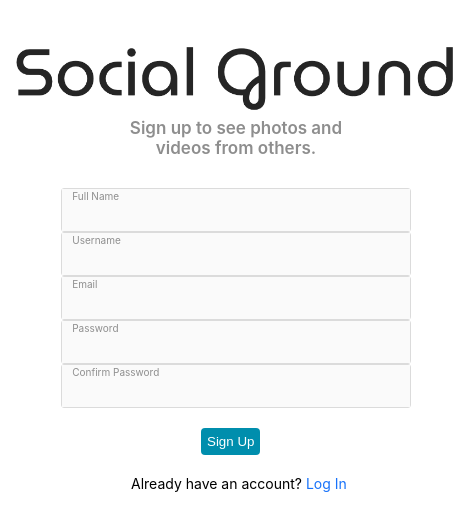
Test: Test that we can create a new user › type in user information, test wrong password match
Type "testUser" into the field with id "formInput12".
click(236, 254); type("testUser")  # box top-left (70, 239), bottom-right (402, 268)
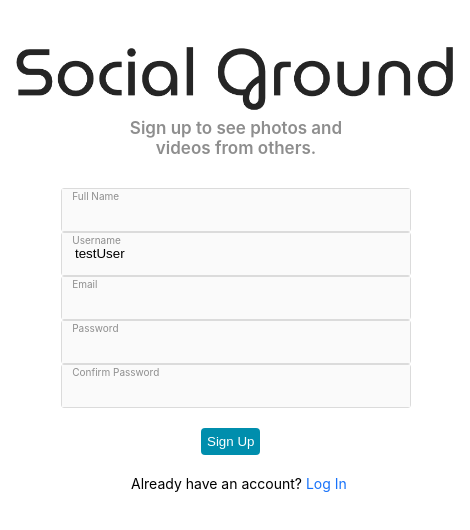
Type "Banana" into the field with id "formInput6".
click(236, 210); type("Banana")  # box top-left (70, 195), bottom-right (402, 224)
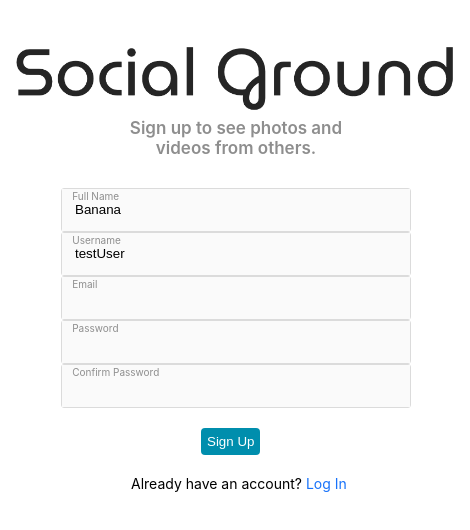
Type "testing123@gmail.com" into the field with id "formInput7".
click(236, 298); type("testing123@gmail.com")  # box top-left (70, 283), bottom-right (402, 312)
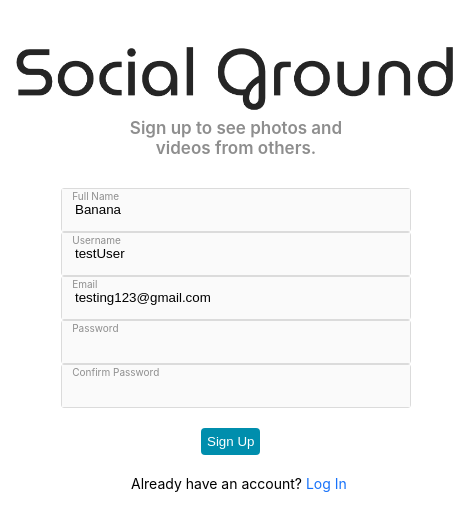
Type "testPW" into the password field with id "formInput8".
click(236, 342); type("testPW")  # box top-left (70, 327), bottom-right (402, 356)
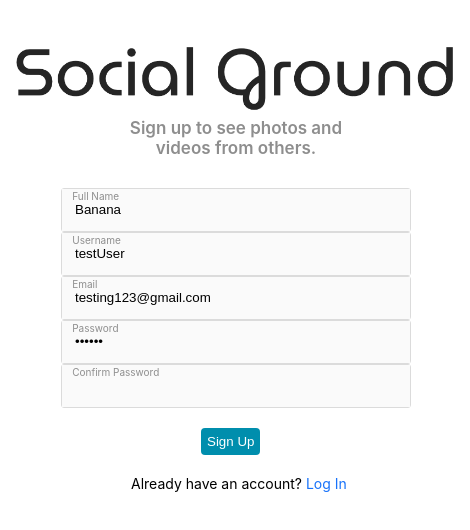
Type "testConfirmPW" into the password field with id "formInput9".
click(236, 386); type("testConfirmPW")  # box top-left (70, 371), bottom-right (402, 400)
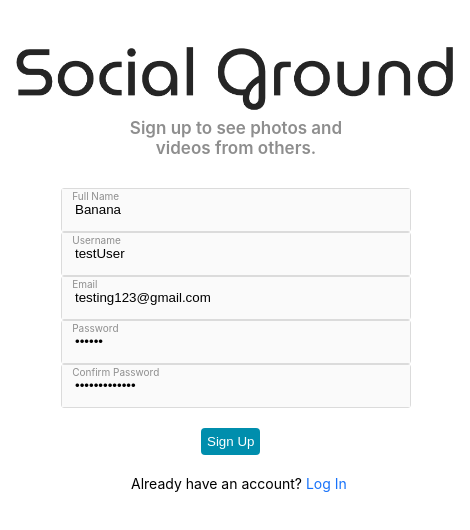
// click on the login button
Click the button "Sign Up".
click(231, 442)  # box top-left (201, 428), bottom-right (260, 455)
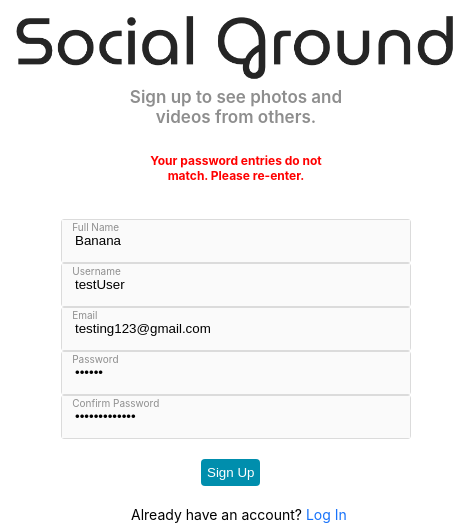
Result: the heading "Your password entries do not match. Please re-enter." is shown at top-left (141, 153), bottom-right (331, 183)
